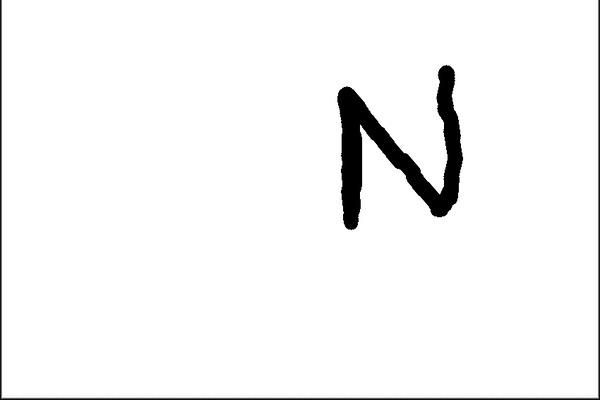N: (331, 60, 467, 230)
